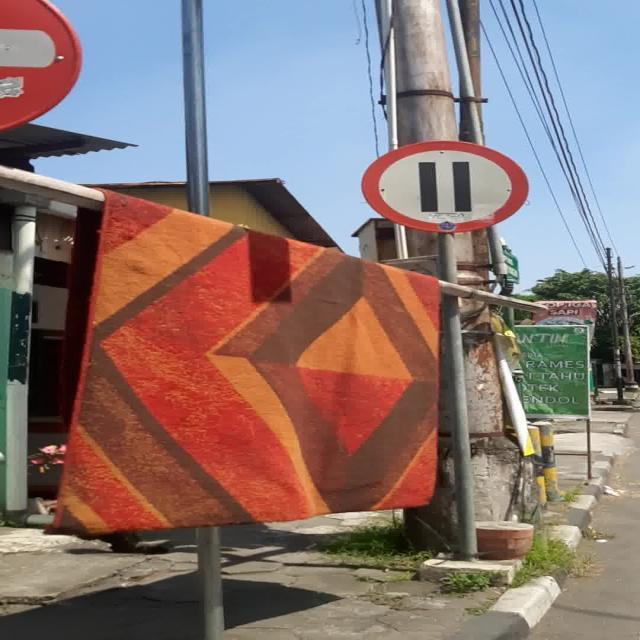Larangan Muatan - 10 ton: (361, 140, 529, 232)
